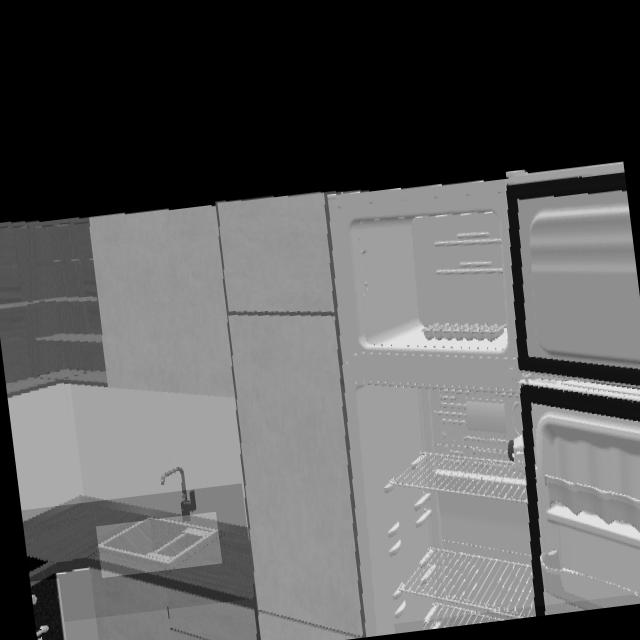cabinet: (0, 192, 367, 640), (45, 575, 260, 640)
countertop: (23, 503, 254, 599)
fridge: (340, 164, 640, 622)
oven: (30, 579, 65, 640)
sink: (98, 520, 219, 569)
